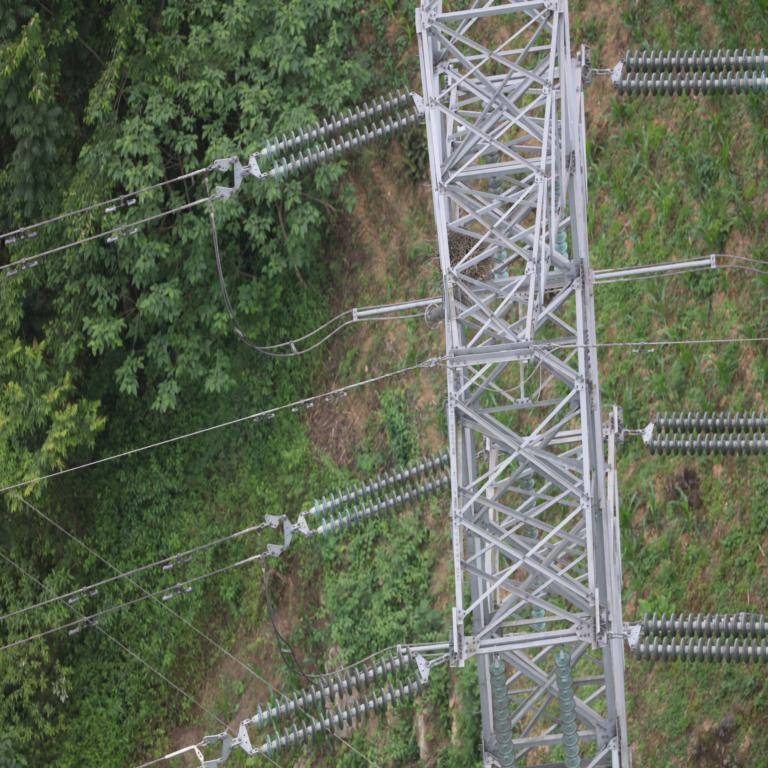nest: (444, 231, 492, 285)
